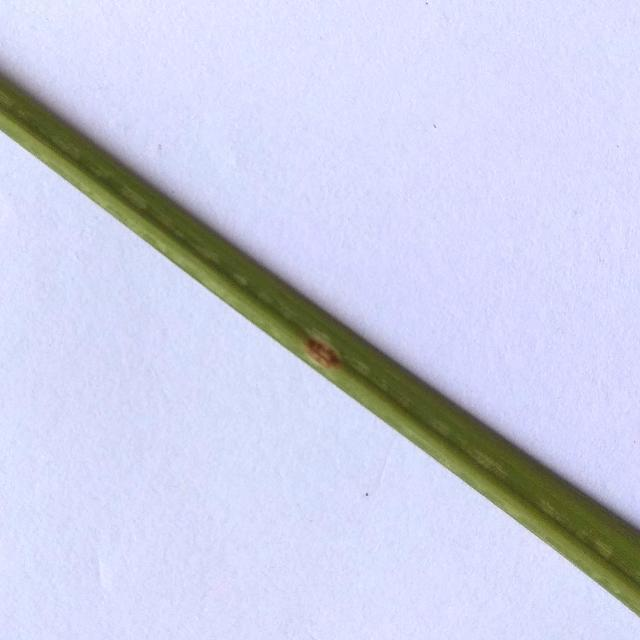Blast: (298, 334, 346, 368)
